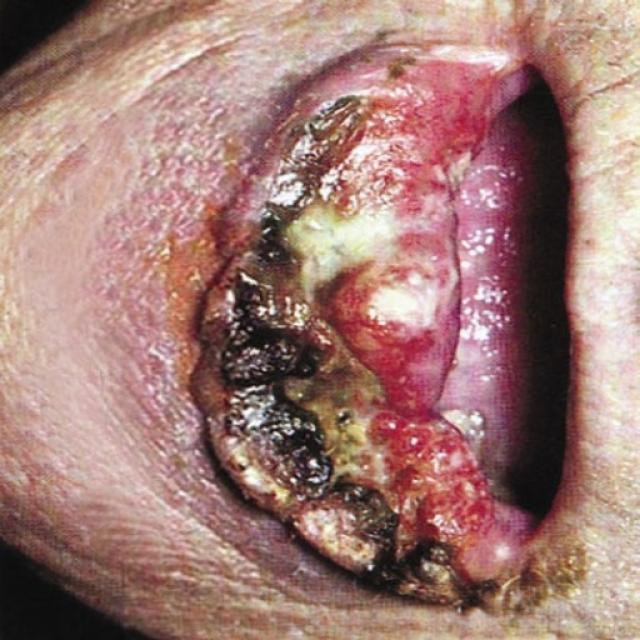cancer-detection: (190, 78, 592, 622)
processing_area: (193, 37, 550, 616)
